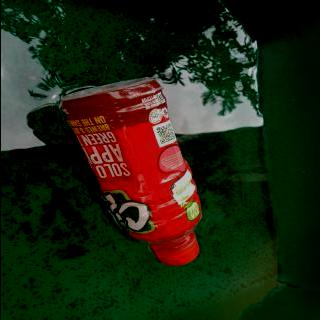bottle: (60, 75, 204, 268)
